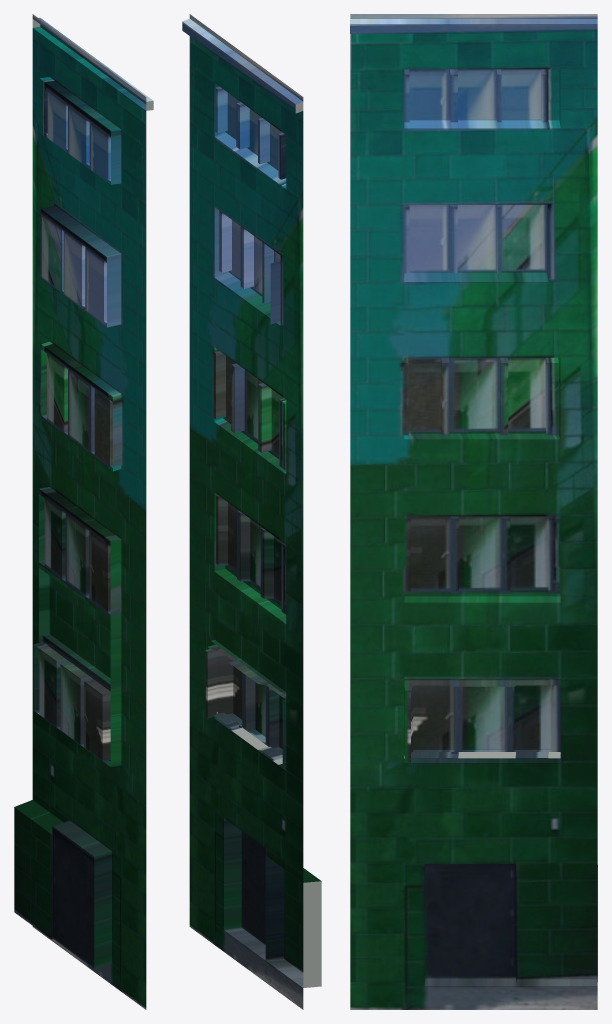
The model's file is hfmiddle.fbx.
The picture shows the model from 3 angles, left to right: view 1: azimuth 30°, elevation 25°; view 2: azimuth 210°, elevation 25°; view 3: azimuth 270°, elevation 25°; orthographic projection. The views are drawn at different scales.
Visible parts, largest first — view 1: hfmiddle; view 2: hfmiddle; view 3: hfmiddle.
Boxes of the visible parts, bbox=[...] form: hfmiddle: bbox=[14, 14, 153, 1009]; hfmiddle: bbox=[182, 14, 321, 1009]; hfmiddle: bbox=[350, 14, 597, 1009].
Size of the model in its own units: 18.14 by 553 by 125.
Materials: 1 (1 with a texture image).
